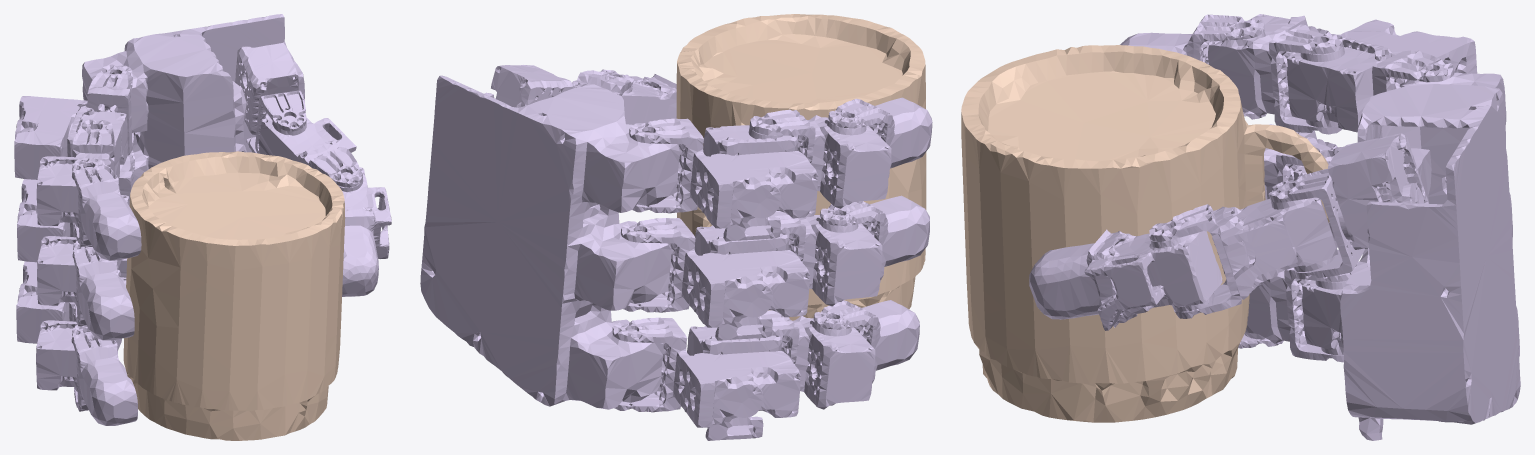
File: c05b47c03e13d7-closed.glb
3 renders of one model, left to right at view 1: azimuth 30°, elevation 25°; view 2: azimuth 150°, elevation 25°; view 3: azimuth 270°, elevation 25°, orthographic. The views are drawn at different scales.
Visible parts, largest first — view 1: LEAP_hand, world; view 2: LEAP_hand, world; view 3: LEAP_hand, world.
Boxes of the visible parts, bbox=[...] form: LEAP_hand: bbox=[14, 14, 391, 425]; world: bbox=[123, 151, 345, 440]; LEAP_hand: bbox=[420, 65, 932, 440]; world: bbox=[676, 14, 926, 320]; LEAP_hand: bbox=[1029, 14, 1520, 440]; world: bbox=[961, 45, 1329, 422].
Size of the model in its own units: 0.1826 by 0.1407 by 0.2061.
